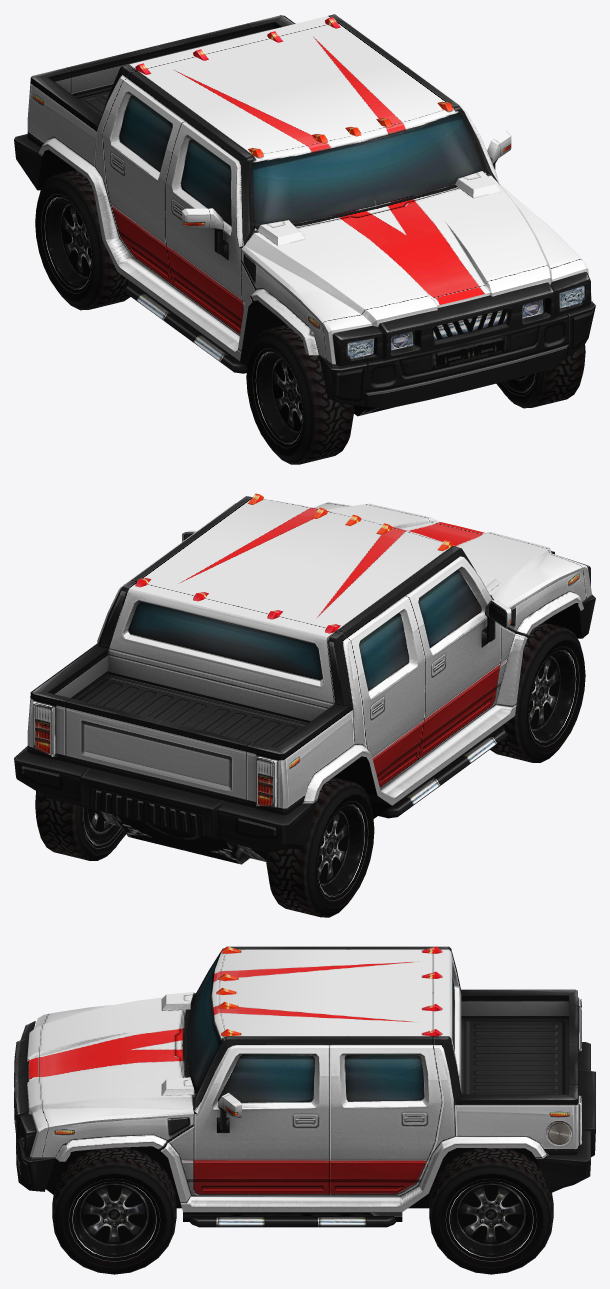
The model's file is car6 (2).fbx.
3 views of the same model, one above another, from view 1: azimuth 30°, elevation 25°; view 2: azimuth 150°, elevation 25°; view 3: azimuth 270°, elevation 25° (orthographic). The views are drawn at different scales.
Visible parts, largest first — view 1: car body.005, tyre.023, tyre.021, tyre.022; view 2: car body.005, tyre.021, tyre.023, tyre.024; view 3: car body.005, tyre.022, tyre.024.
Part boxes in pixels (x1=…): car body.005: x1=14, y1=14, x2=595, y2=416; tyre.023: x1=246, y1=325, x2=354, y2=464; tyre.021: x1=35, y1=170, x2=130, y2=310; tyre.022: x1=496, y1=345, x2=585, y2=408; car body.005: x1=14, y1=493, x2=595, y2=864; tyre.021: x1=266, y1=777, x2=374, y2=917; tyre.023: x1=490, y1=622, x2=585, y2=762; tyre.024: x1=35, y1=791, x2=125, y2=860; car body.005: x1=14, y1=946, x2=595, y2=1227; tyre.022: x1=52, y1=1147, x2=176, y2=1274; tyre.024: x1=429, y1=1148, x2=553, y2=1274.
Size of the model in its own units: 200 by 150 by 346.
1 material, 1 textured.
